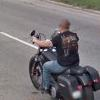Motorcycle: (20, 27, 100, 100)
